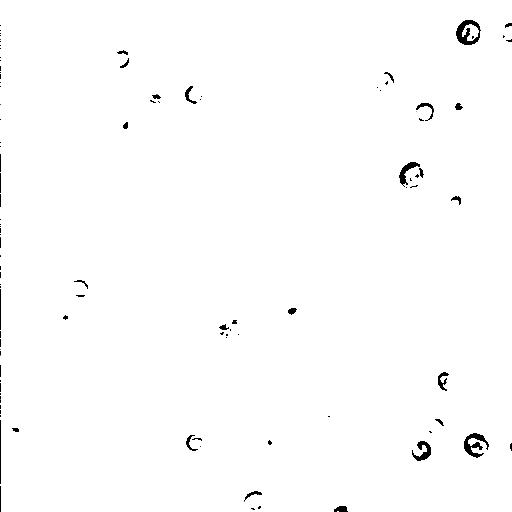micro-algae: (175, 275, 267, 366), (339, 53, 399, 113), (477, 417, 512, 488), (353, 102, 398, 151), (413, 457, 459, 504), (13, 257, 57, 299), (374, 8, 413, 54), (121, 337, 151, 367), (448, 93, 473, 129), (397, 161, 426, 189), (454, 18, 482, 47), (275, 296, 305, 322), (462, 431, 490, 458), (258, 428, 289, 452), (113, 110, 138, 137), (239, 489, 268, 512), (5, 412, 30, 438), (387, 126, 413, 151), (57, 307, 78, 336), (221, 317, 243, 342), (373, 70, 395, 95), (411, 441, 433, 462), (413, 101, 435, 122), (183, 82, 203, 105), (184, 432, 204, 454), (425, 415, 447, 435), (437, 371, 456, 391), (70, 279, 89, 298), (347, 0, 371, 14), (499, 20, 512, 44), (113, 49, 129, 68), (135, 1, 166, 10), (446, 195, 463, 211), (329, 502, 352, 510), (505, 437, 512, 458)
